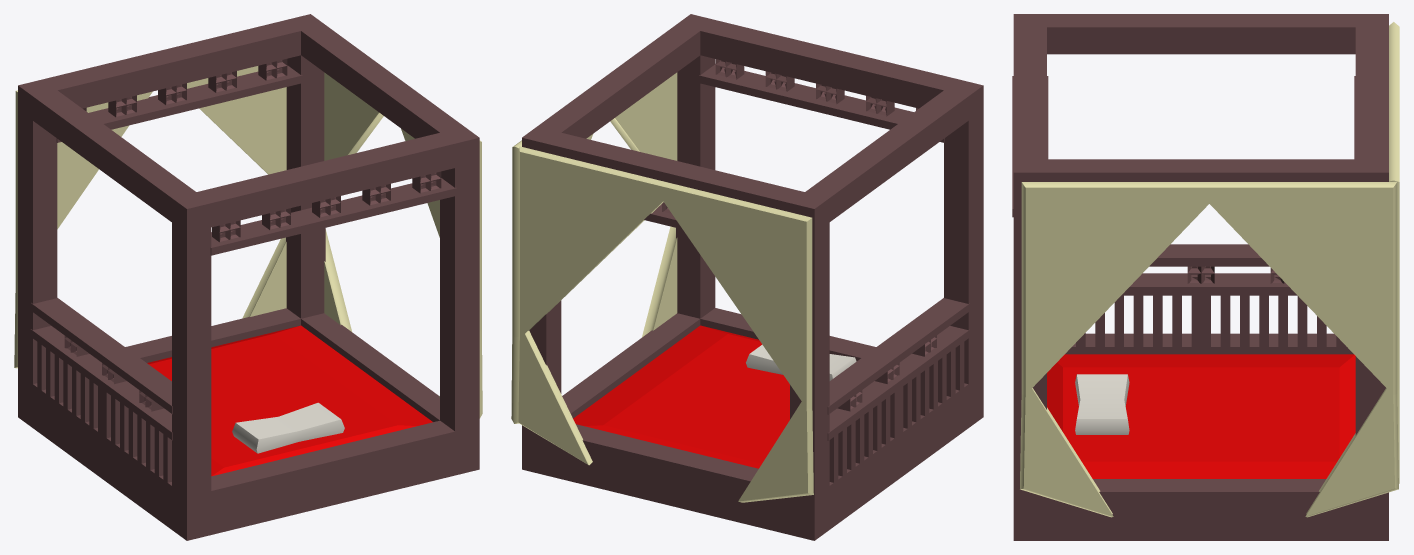
File: ChineseBed.fbx
3 renders of one model, left to right at view 1: azimuth 30°, elevation 25°; view 2: azimuth 150°, elevation 25°; view 3: azimuth 270°, elevation 25°, orthographic. The views are drawn at different scales.
Parts seen in each view (by area): view 1: pCube1, pCube22, pCube23, pCube4, pCube16, pCube15, pCube2, pCube3; view 2: pCube1, pCube22, pCube23, pCube4, pCube16, pCube3, pCube2; view 3: pCube1, pCube23, pCube3, pCube2, pCube22, pCube4.
Part boxes in pixels (x1,y1,x2,y2): pCube1: (18, 14, 479, 540); pCube22: (14, 66, 286, 368); pCube23: (324, 72, 482, 418); pCube4: (30, 298, 172, 414); pCube16: (210, 178, 456, 255); pCube15: (56, 65, 302, 142); pCube2: (232, 402, 344, 453); pCube3: (30, 326, 172, 440); pCube1: (522, 14, 983, 540); pCube22: (518, 146, 813, 502); pCube23: (511, 72, 677, 423); pCube4: (827, 298, 969, 414); pCube16: (699, 64, 944, 142); pCube3: (827, 326, 969, 440); pCube2: (746, 344, 856, 380); pCube1: (1013, 14, 1388, 540); pCube23: (1020, 182, 1398, 517); pCube3: (1121, 273, 1297, 295); pCube2: (1075, 374, 1129, 434); pCube22: (1389, 22, 1399, 483); pCube4: (1149, 244, 1269, 266).
Bounding box in the file's own units: 18.06 × 18.98 × 18.07.
